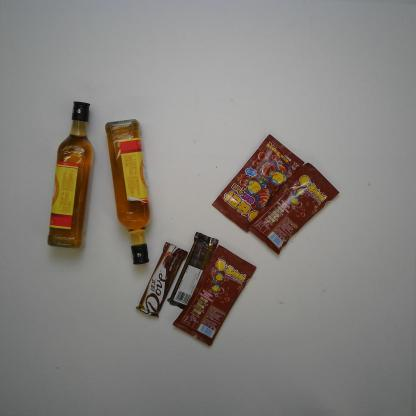Candy: (248, 159, 342, 260), (210, 133, 304, 233), (172, 244, 259, 351)
Chocolate: (132, 240, 188, 322), (168, 229, 220, 313)
Seasoner: (44, 100, 98, 250), (103, 116, 154, 266)
